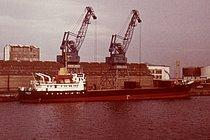Ship: (18, 67, 196, 107)
